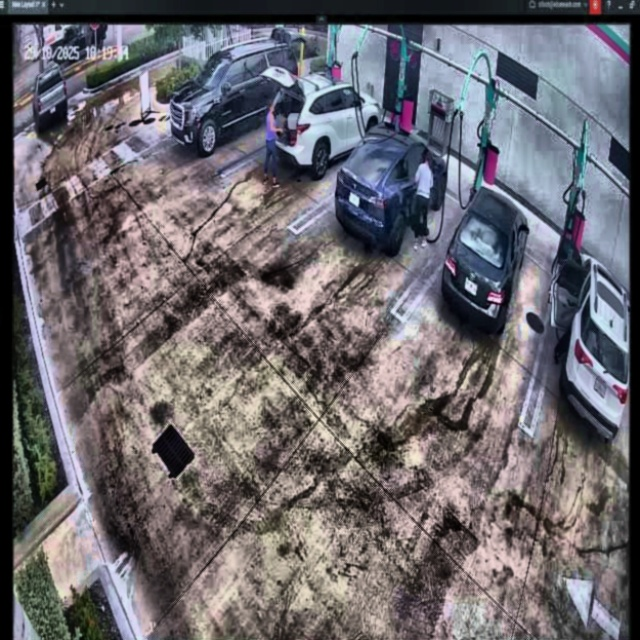Car: (337, 121, 447, 252), (266, 63, 381, 178), (442, 186, 529, 336)
